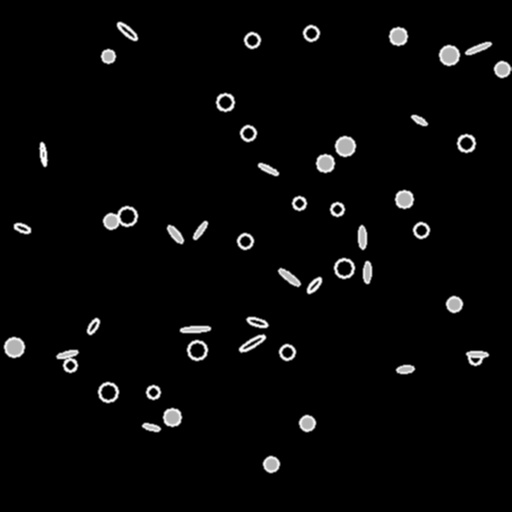pseudomonas: (238, 333, 266, 353), (116, 20, 138, 42), (278, 267, 300, 287), (465, 41, 491, 55), (166, 224, 184, 244), (305, 276, 323, 294), (192, 220, 208, 240), (258, 162, 278, 176), (246, 316, 268, 328), (86, 317, 100, 335), (180, 325, 210, 333), (410, 114, 428, 126), (13, 222, 31, 234), (57, 349, 77, 359), (39, 143, 47, 165), (358, 226, 366, 248), (466, 351, 488, 357), (143, 423, 159, 431), (397, 365, 413, 373), (364, 262, 370, 282)
synechocystis: (99, 383, 117, 401), (5, 338, 23, 356), (118, 207, 136, 225), (440, 46, 458, 64), (336, 137, 354, 155), (188, 341, 206, 359), (335, 259, 353, 277), (458, 135, 474, 151), (164, 409, 180, 425), (217, 94, 233, 110), (396, 191, 412, 207), (390, 28, 406, 44), (317, 155, 333, 171), (280, 345, 294, 359), (495, 62, 509, 76), (241, 126, 255, 140), (264, 457, 278, 471), (304, 26, 318, 40), (414, 223, 428, 237), (447, 297, 461, 311), (300, 416, 314, 430), (245, 33, 259, 47), (238, 234, 252, 248), (104, 214, 118, 228), (293, 197, 305, 209), (64, 359, 76, 371), (102, 50, 114, 62), (147, 386, 159, 398), (469, 352, 481, 364), (331, 203, 343, 215)
